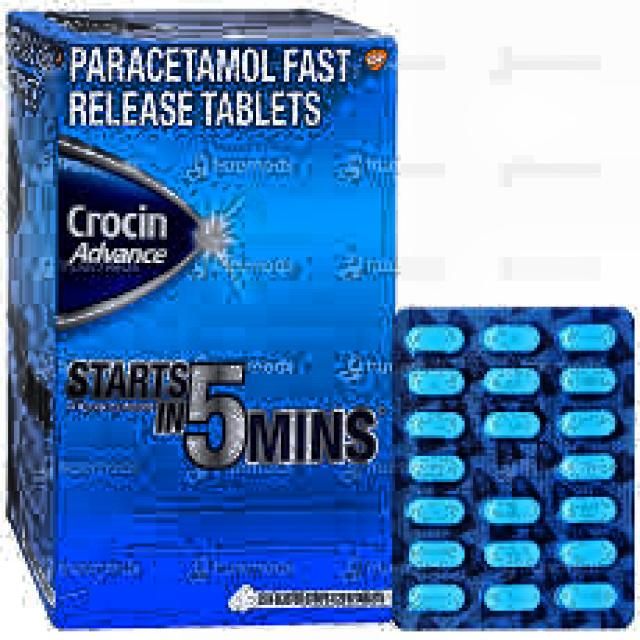Crocin: (55, 143, 226, 341)
